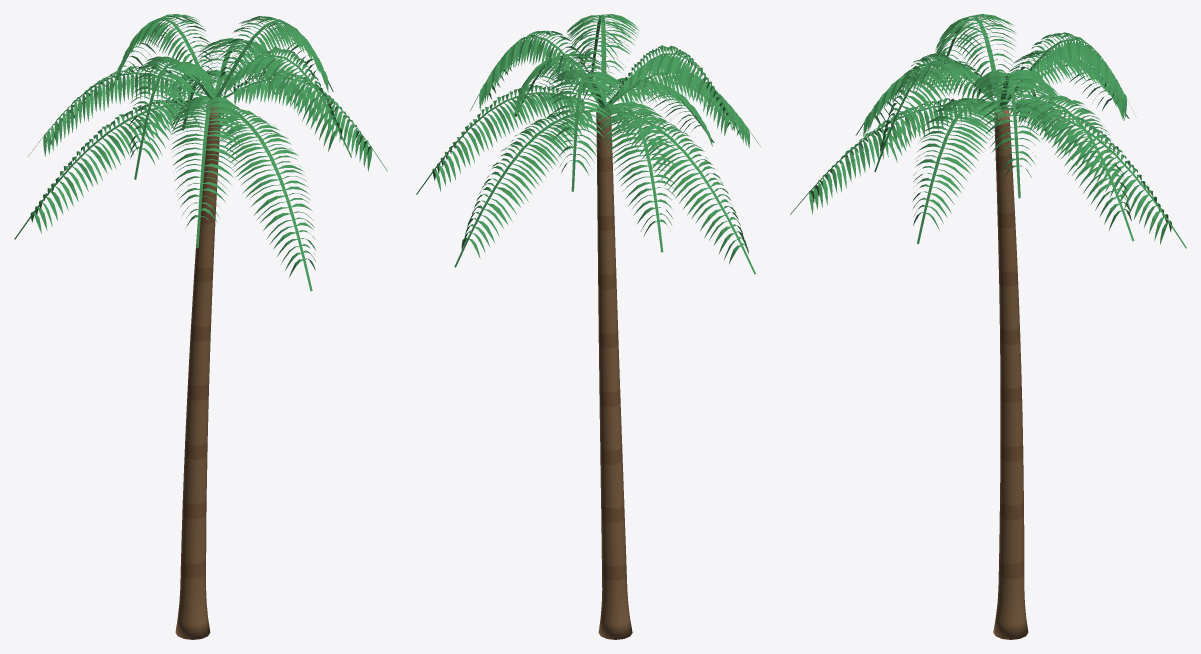
File: coastal-tall.glb
3 views of the same model, side by side, from view 1: azimuth 30°, elevation 25°; view 2: azimuth 150°, elevation 25°; view 3: azimuth 270°, elevation 25° (orthographic). The views are drawn at different scales.
Parts seen in each view (by area): view 1: coastal-tall-feather-crown, coastal-tall-ringed-trunk; view 2: coastal-tall-feather-crown, coastal-tall-ringed-trunk; view 3: coastal-tall-feather-crown, coastal-tall-ringed-trunk.
Part boxes in pixels (x1,y1,x2,y2): coastal-tall-feather-crown: [14, 14, 387, 291]; coastal-tall-ringed-trunk: [175, 104, 220, 639]; coastal-tall-feather-crown: [416, 14, 760, 274]; coastal-tall-ringed-trunk: [596, 108, 632, 639]; coastal-tall-feather-crown: [790, 14, 1186, 248]; coastal-tall-ringed-trunk: [993, 107, 1028, 639].
Size of the model in its own units: 6.29 by 11.5 by 6.93.
